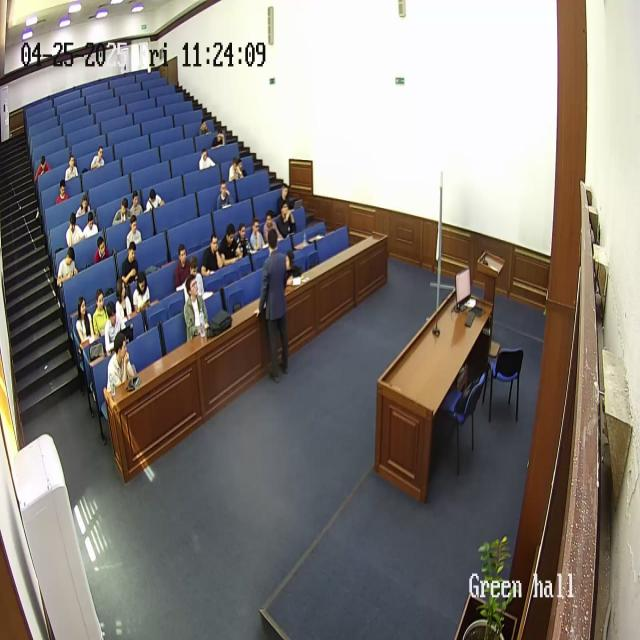person: (256, 230, 290, 380), (106, 332, 137, 393), (183, 274, 210, 340), (74, 296, 96, 349), (104, 302, 125, 356), (183, 255, 206, 301), (120, 241, 142, 289), (116, 276, 136, 328), (200, 233, 224, 275), (219, 223, 241, 267), (174, 244, 194, 292), (57, 245, 79, 288), (92, 288, 110, 339), (132, 270, 152, 315), (276, 202, 296, 241), (234, 221, 254, 259), (261, 210, 279, 248), (249, 216, 267, 252), (126, 214, 144, 250), (66, 212, 84, 248), (283, 248, 301, 284), (276, 182, 294, 215), (81, 211, 99, 241), (112, 197, 130, 227), (94, 235, 112, 264), (34, 155, 52, 184), (145, 186, 165, 212), (217, 180, 234, 210), (75, 192, 93, 220), (198, 146, 216, 172), (208, 124, 226, 150), (128, 190, 144, 217), (55, 180, 71, 206), (90, 145, 106, 171), (64, 153, 78, 181), (195, 113, 209, 141), (228, 156, 243, 182)
